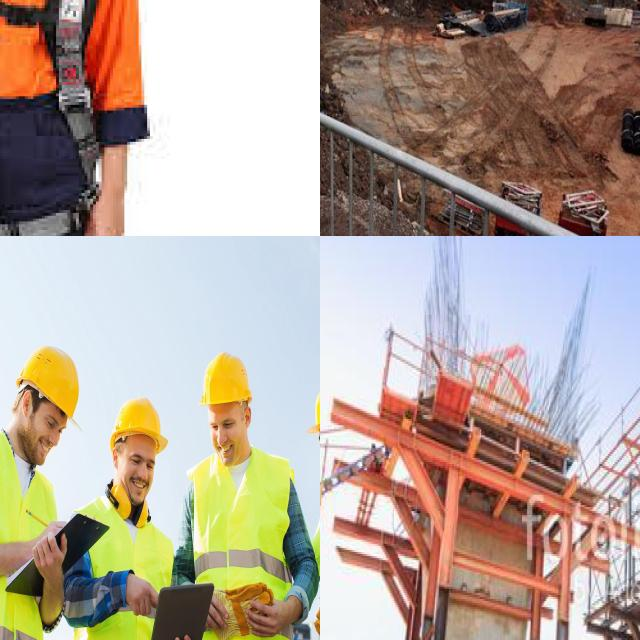Harness: (0, 0, 120, 236)
face_nomask: (117, 432, 167, 510), (24, 388, 71, 469), (210, 406, 250, 466)
hand_noglove: (121, 567, 162, 624), (31, 528, 68, 580)
head_helmet: (16, 344, 82, 431), (110, 396, 169, 455), (198, 351, 252, 406), (305, 376, 320, 433)
person: (179, 356, 314, 640), (70, 402, 177, 640)
vest: (191, 442, 295, 640), (74, 492, 170, 640), (0, 420, 49, 640)
